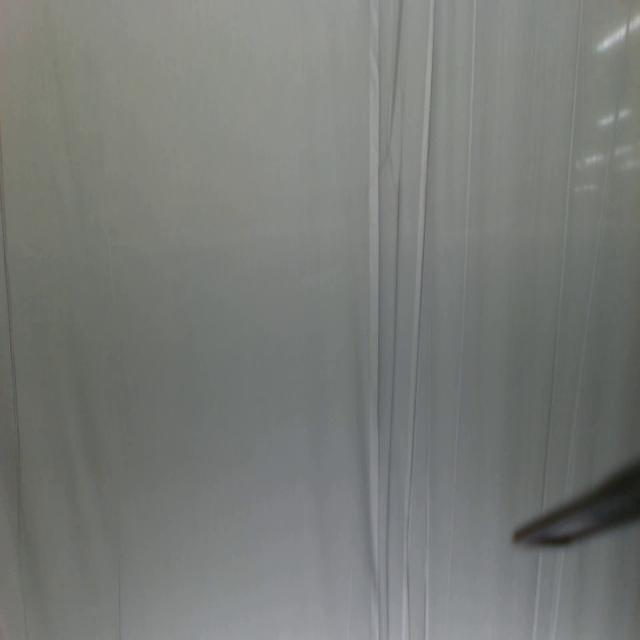crease: (566, 2, 634, 468), (538, 0, 586, 494), (403, 0, 440, 639), (442, 0, 478, 636), (369, 0, 384, 635), (3, 155, 26, 534), (386, 133, 399, 640), (387, 0, 407, 132), (423, 440, 432, 638), (550, 546, 567, 640), (528, 549, 542, 640), (116, 540, 124, 639)
